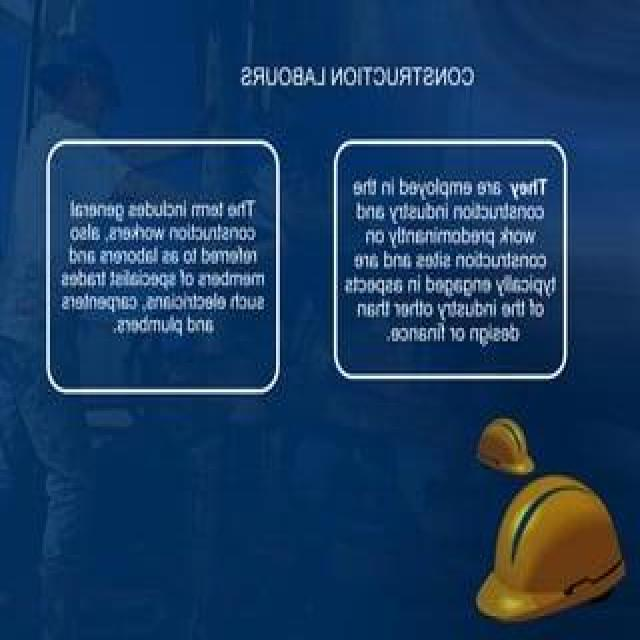Safety-Helmet: (472, 470, 634, 630)
